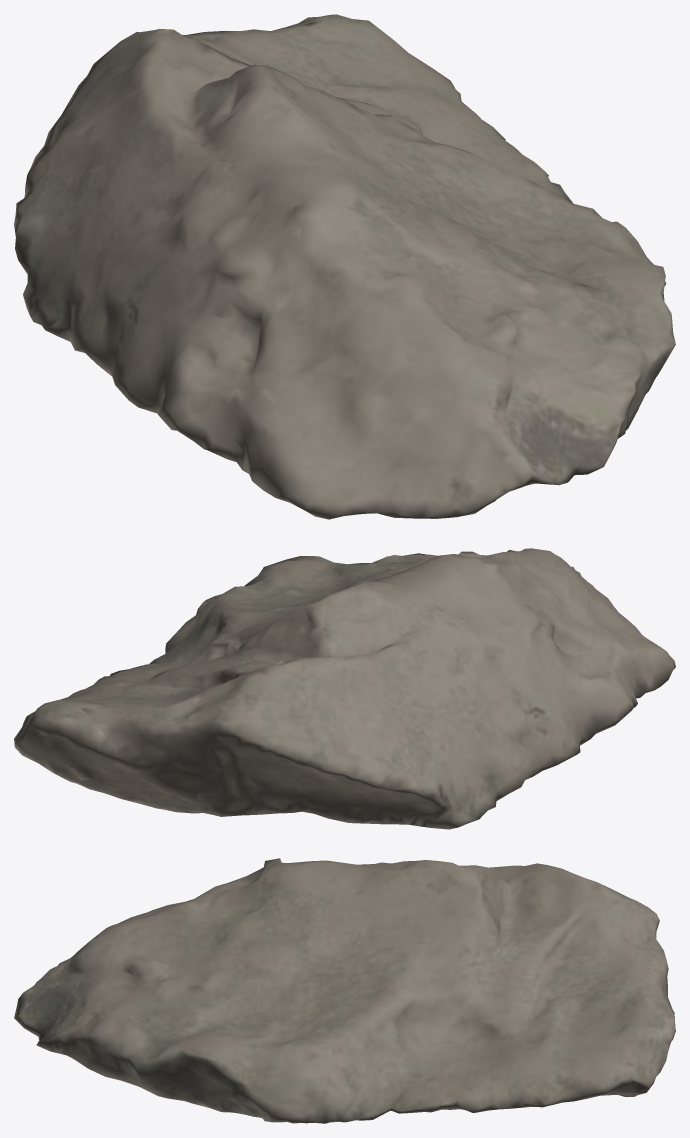
File: moon_rock_04.glb
3 views of the same model, one above another, from view 1: azimuth 30°, elevation 25°; view 2: azimuth 150°, elevation 25°; view 3: azimuth 270°, elevation 25° (orthographic). The views are drawn at different scales.
Parts seen in each view (by area): view 1: moon_rock_04_LOD0; view 2: moon_rock_04_LOD0; view 3: moon_rock_04_LOD0.
Boxes of the visible parts, x1=… form: moon_rock_04_LOD0: x1=14, y1=14, x2=675, y2=519; moon_rock_04_LOD0: x1=14, y1=548, x2=675, y2=829; moon_rock_04_LOD0: x1=14, y1=858, x2=675, y2=1123.
Size of the model in its own units: 0.1198 by 0.0538 by 0.1738.
Materials: 1 (1 with a texture image).
